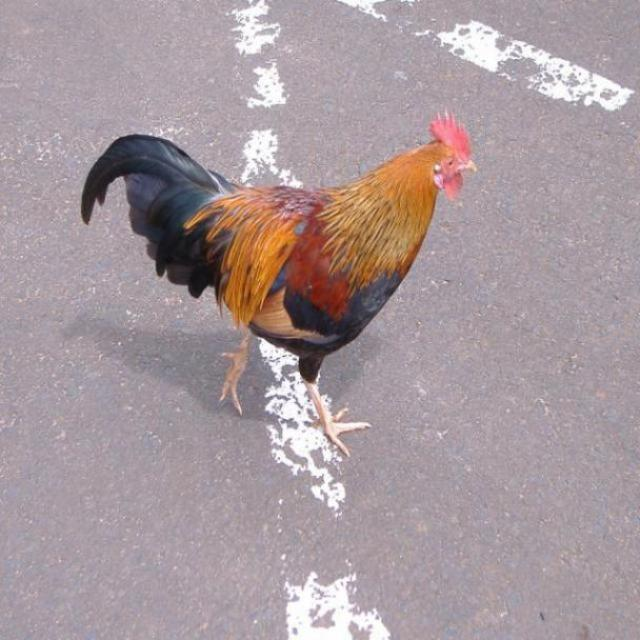Chicken: (76, 113, 477, 464)
